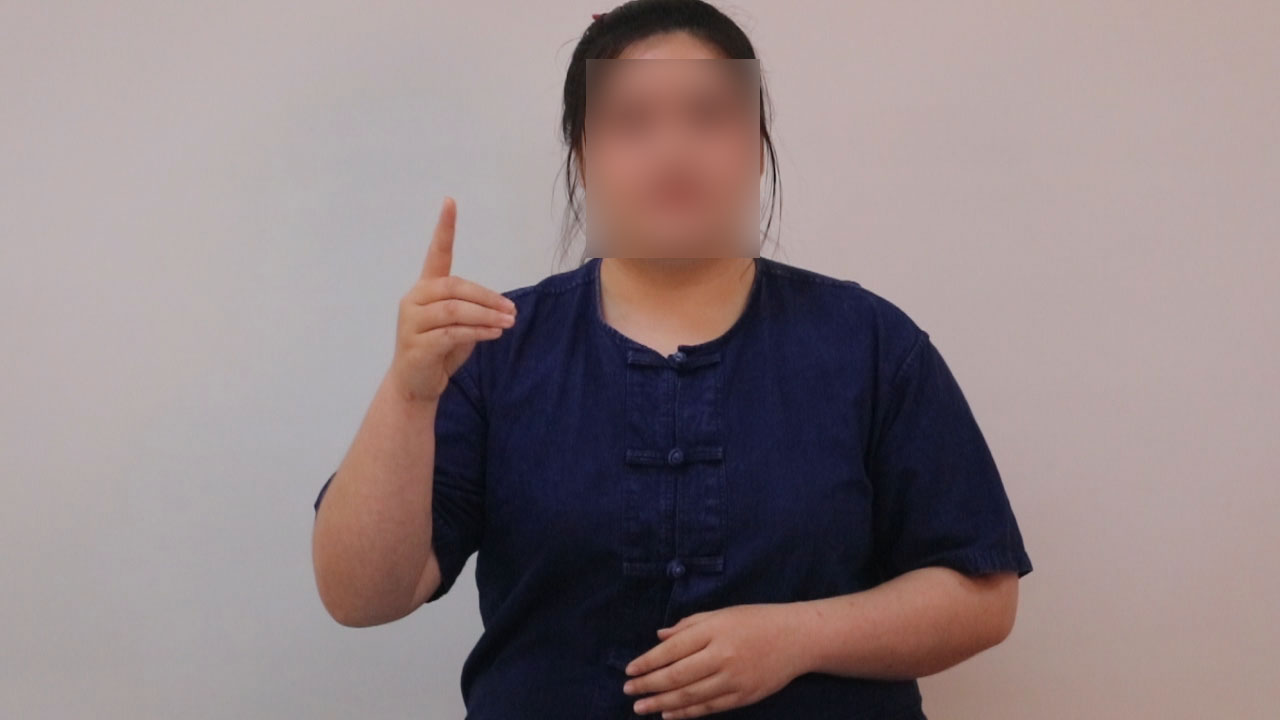dor: (377, 185, 524, 391)
